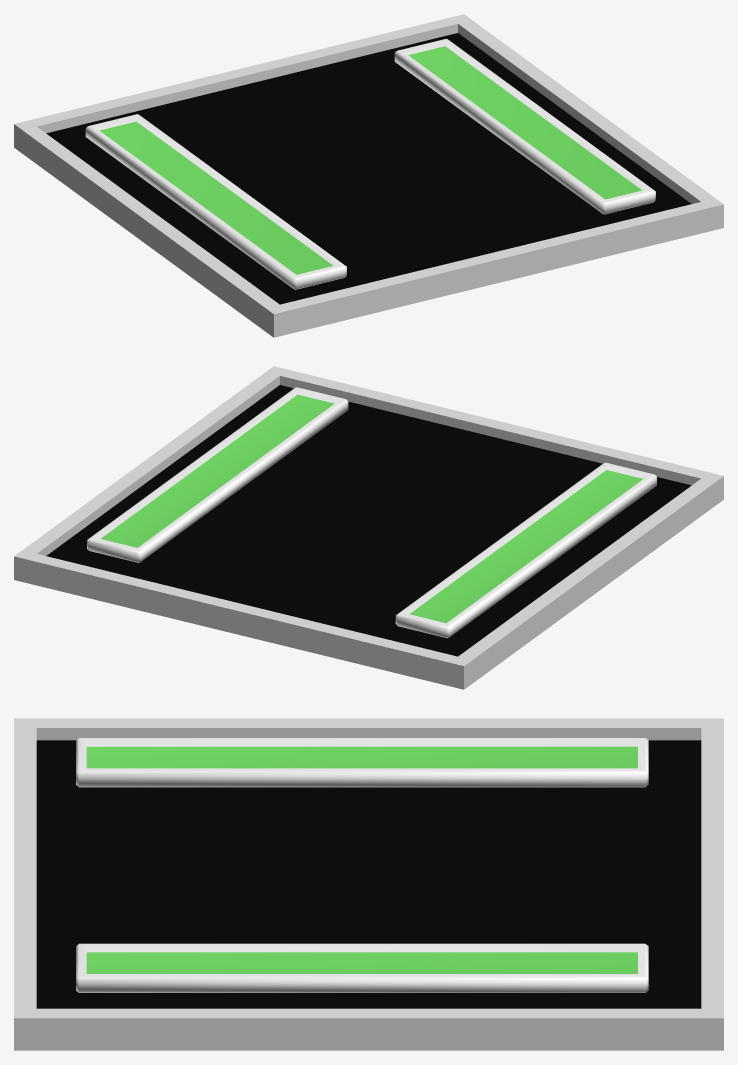
Rendered from SM_Garden_06.fbx.
3 renders of one model, top to bottom at view 1: azimuth 30°, elevation 25°; view 2: azimuth 150°, elevation 25°; view 3: azimuth 270°, elevation 25°, orthographic. The views are drawn at different scales.
Parts seen in each view (by area): view 1: SM_Garden_06; view 2: SM_Garden_06; view 3: SM_Garden_06.
Part boxes in pixels (box(x1,y1,x2,y2)): SM_Garden_06: box(14, 14, 723, 337); SM_Garden_06: box(14, 366, 723, 689); SM_Garden_06: box(14, 718, 723, 1050).
Bounding box in the file's own units: 1697 × 113 × 1697.
